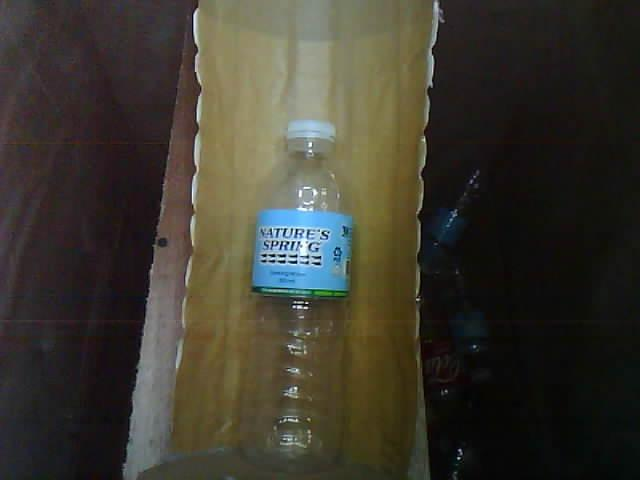small_bottle: (226, 101, 372, 480)
